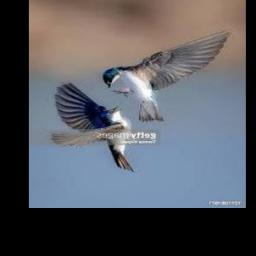Swallow: (103, 29, 231, 122), (52, 83, 134, 171)
